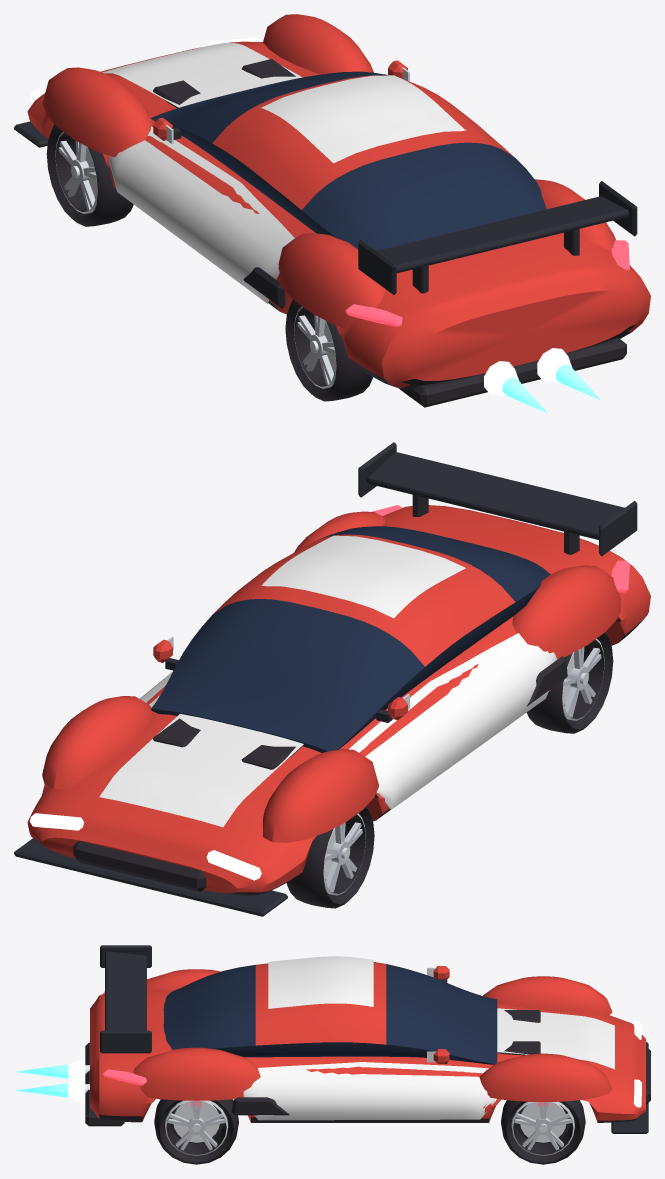
File: car_sport.glb
3 renders of one model, top to bottom at view 1: azimuth 30°, elevation 25°; view 2: azimuth 150°, elevation 25°; view 3: azimuth 270°, elevation 25°, orthographic. The views are drawn at different scales.
Parts seen in each view (by area): view 1: Body, Vinyl, Spoiler, WheelFL, WheelRL, NitroFlame; view 2: Body, Vinyl, Spoiler, WheelFL, WheelRL; view 3: Body, Vinyl, Spoiler, WheelRR, WheelFR, NitroFlame.
Boxes of the visible parts, x1=… form: Body: x1=14, y1=14, x2=650, y2=407; Vinyl: x1=102, y1=43, x2=465, y2=303; Spoiler: x1=358, y1=181, x2=637, y2=294; WheelFL: x1=46, y1=124, x2=133, y2=226; WheelRL: x1=285, y1=300, x2=372, y2=401; NitroFlame: x1=484, y1=348, x2=600, y2=413; Body: x1=14, y1=505, x2=650, y2=916; Vinyl: x1=99, y1=535, x2=557, y2=827; Spoiler: x1=358, y1=442, x2=637, y2=555; WheelFL: x1=286, y1=806, x2=374, y2=908; WheelRL: x1=526, y1=632, x2=613, y2=733; Body: x1=85, y1=962, x2=650, y2=1133; Vinyl: x1=243, y1=956, x2=614, y2=1120; Spoiler: x1=100, y1=945, x2=151, y2=1053; WheelRR: x1=154, y1=1099, x2=238, y2=1164; WheelFR: x1=501, y1=1100, x2=585, y2=1164; NitroFlame: x1=14, y1=1058, x2=85, y2=1103.
Size of the model in its own units: 1.99 by 1.28 by 5.14.
